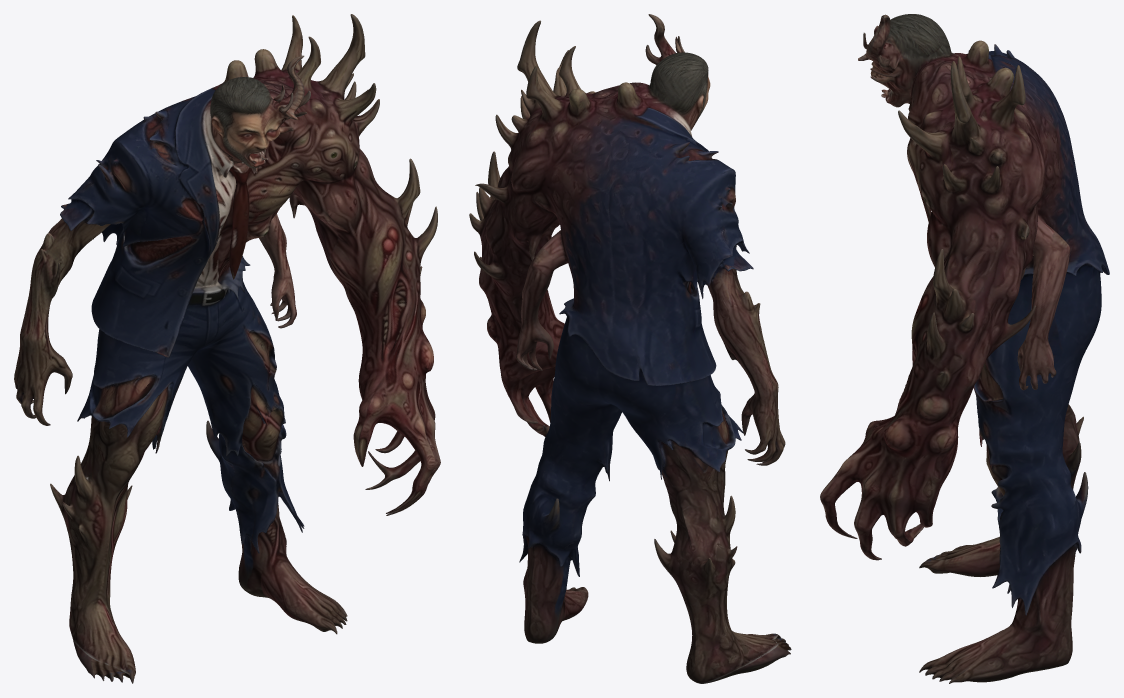
The model's file is Integrante_Grizzolito_Marolis_Monster_1.glb.
3 renders of one model, left to right at view 1: azimuth 30°, elevation 25°; view 2: azimuth 150°, elevation 25°; view 3: azimuth 270°, elevation 25°, orthographic. The views are drawn at different scales.
Bounding box in the file's own units: 1.21 × 1.9 × 0.7874.
Materials: 1 (1 with a texture image).
